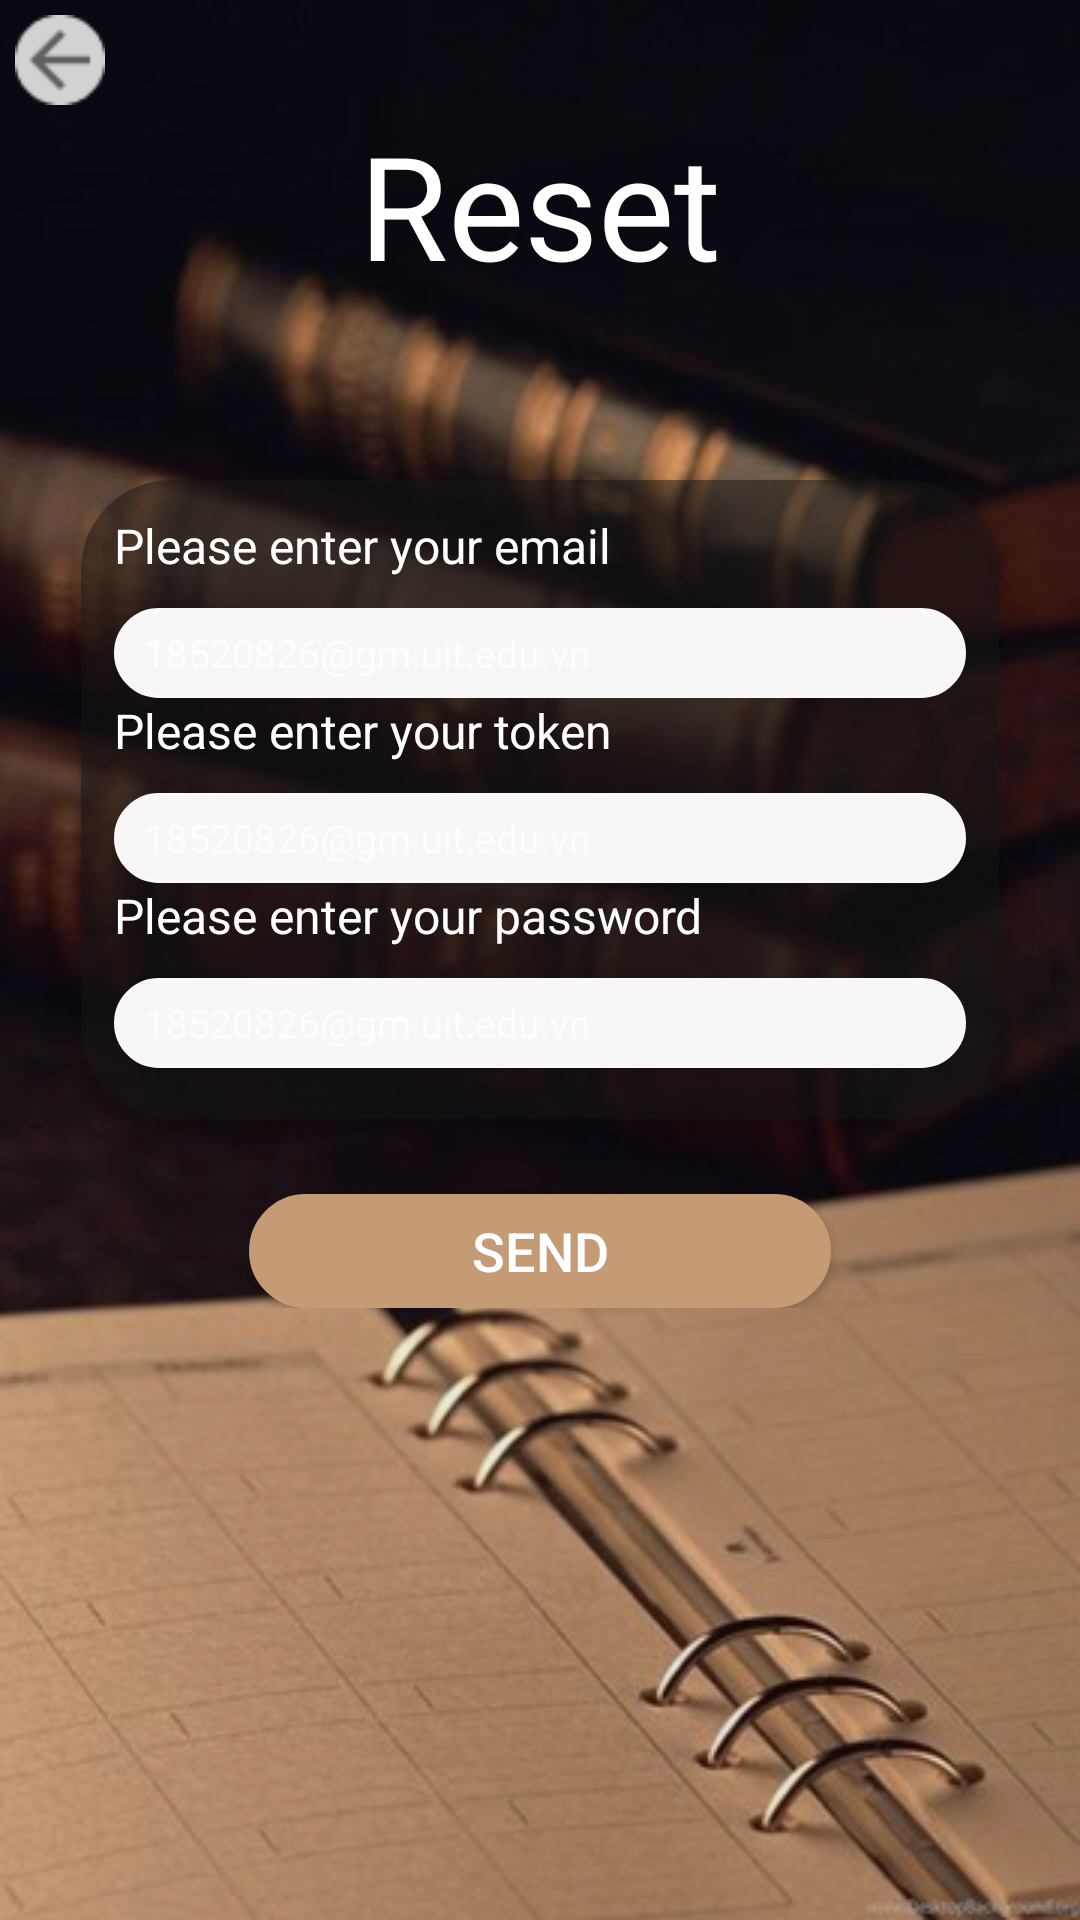

Icons on this 1080px x 1920px Android screen, each with its box as (x1, y1, x2, y2):
back: (15, 15, 105, 105)
